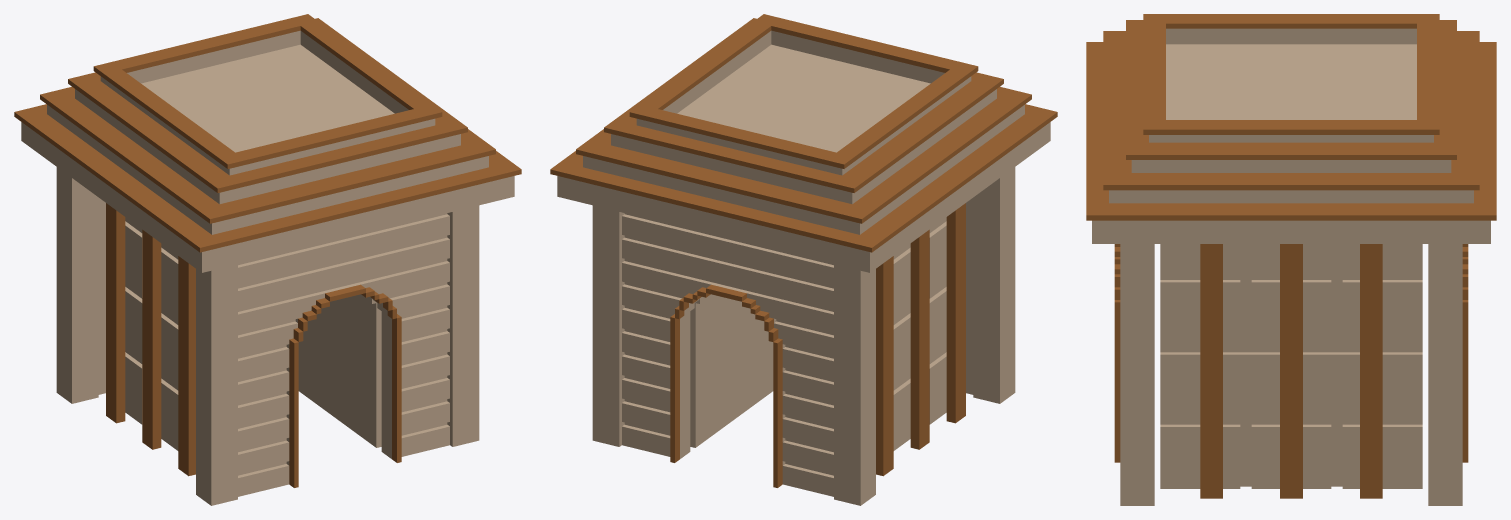
Rendered from Background_B_house_06.FBX.
3 views of the same model, side by side, from view 1: azimuth 30°, elevation 25°; view 2: azimuth 150°, elevation 25°; view 3: azimuth 270°, elevation 25° (orthographic). The views are drawn at different scales.
Visible parts, largest first — view 1: untitled-17; view 2: untitled-17; view 3: untitled-17.
Part boxes in pixels (x1,y1,x2,y2): untitled-17: (14,14,521,505); untitled-17: (550,14,1057,505); untitled-17: (1086,14,1496,505).
Bounding box in the file's own units: 7.2 × 7 × 7.2.
1 material, 1 textured.
